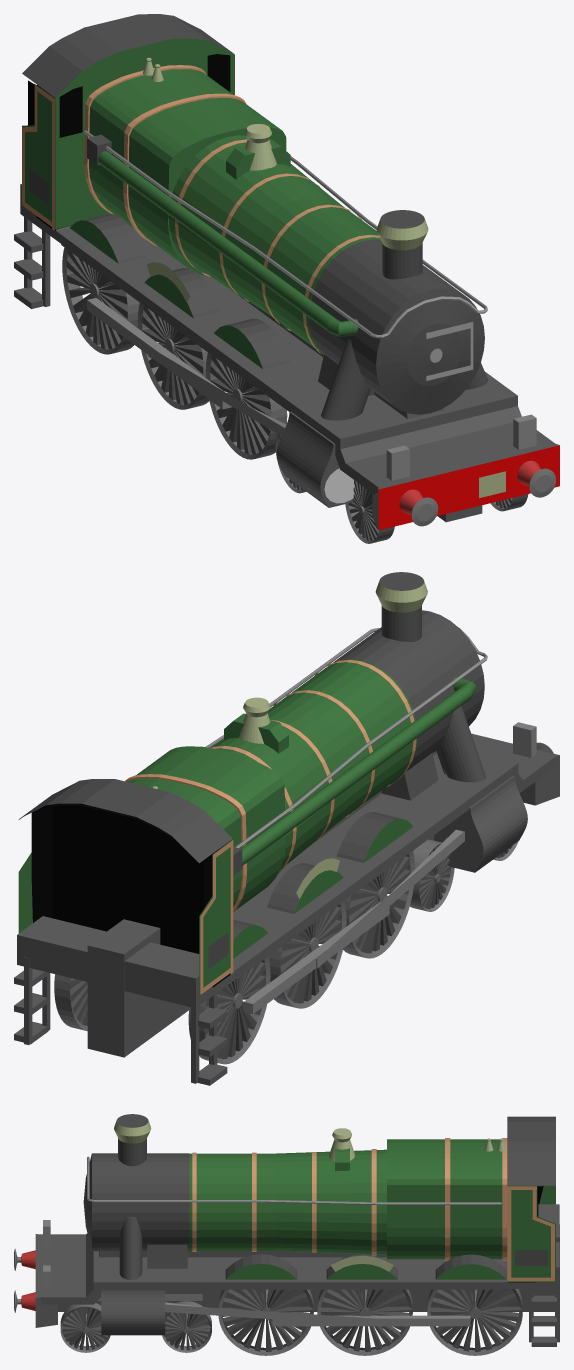
File: gwr-saint.dae
3 views of the same model, one above another, from view 1: azimuth 30°, elevation 25°; view 2: azimuth 150°, elevation 25°; view 3: azimuth 270°, elevation 25° (orthographic). The views are drawn at different scales.
Parts seen in each view (by area): view 1: Plane, Cylinder_016, Cylinder_011, Cylinder_017, Plane_001, Plane_010, Cylinder_012 (×2), Cube_005, Loco-Wheels-5Ft_000, Loco-Wheels-5Ft_000_002, Cube_007, Loco-Wheels-5Ft_000_001 (+23 smaller); view 2: Plane, Plane_007, Cylinder_011, Cylinder_017, Cylinder_016, Cube_003, Plane_010, Loco-Wheels-5Ft_000, Cube_007, Cylinder_012, Loco-Wheels-5Ft_000_001, Loco-Wheels-5Ft_000_002 (+21 smaller); view 3: Cylinder_011, Plane, Cylinder_017, Cylinder_016, Loco-Wheels-5Ft_000, Loco-Wheels-5Ft_000_002, Loco-Wheels-5Ft_000_001, Plane_010, Cube_003, Cube_000, Plane_001, Plane_005 (+28 smaller).
Boxes of the visible parts, x1=… form: Plane: x1=20, y1=184, x2=557, y2=494; Cylinder_016: x1=309, y1=239, x2=484, y2=414; Cylinder_011: x1=159, y1=135, x2=380, y2=354; Cylinder_017: x1=89, y1=69, x2=286, y2=275; Plane_001: x1=22, y1=38, x2=234, y2=229; Plane_010: x1=22, y1=14, x2=233, y2=97; Cylinder_012 (×2): x1=98, y1=151, x2=555, y2=497; Cube_005: x1=378, y1=445, x2=559, y2=530; Loco-Wheels-5Ft_000: x1=62, y1=247, x2=139, y2=354; Loco-Wheels-5Ft_000_002: x1=206, y1=352, x2=287, y2=459; Cube_007: x1=276, y1=411, x2=355, y2=507; Loco-Wheels-5Ft_000_001: x1=137, y1=303, x2=209, y2=409; Plane: x1=17, y1=733, x2=557, y2=1008; Plane_007: x1=31, y1=803, x2=230, y2=987; Cylinder_011: x1=211, y1=659, x2=417, y2=869; Cylinder_017: x1=127, y1=746, x2=285, y2=910; Cylinder_016: x1=333, y1=610, x2=484, y2=771; Cube_003: x1=87, y1=751, x2=436, y2=1057; Plane_010: x1=19, y1=779, x2=232, y2=863; Loco-Wheels-5Ft_000: x1=54, y1=956, x2=270, y2=1064; Cube_007: x1=434, y1=775, x2=527, y2=872; Cylinder_012: x1=241, y1=676, x2=475, y2=865; Loco-Wheels-5Ft_000_001: x1=268, y1=901, x2=346, y2=1008; Loco-Wheels-5Ft_000_002: x1=343, y1=851, x2=414, y2=958; Cylinder_011: x1=189, y1=1149, x2=400, y2=1254; Plane: x1=36, y1=1204, x2=559, y2=1304; Cylinder_017: x1=387, y1=1139, x2=502, y2=1259; Cylinder_016: x1=83, y1=1153, x2=189, y2=1251; Loco-Wheels-5Ft_000: x1=427, y1=1289, x2=522, y2=1355; Loco-Wheels-5Ft_000_002: x1=218, y1=1289, x2=313, y2=1355; Loco-Wheels-5Ft_000_001: x1=317, y1=1289, x2=412, y2=1355; Plane_010: x1=507, y1=1116, x2=555, y2=1185; Cube_003: x1=58, y1=1224, x2=559, y2=1311; Cube_000: x1=101, y1=1289, x2=165, y2=1335; Plane_001: x1=507, y1=1185, x2=555, y2=1282; Plane_005: x1=272, y1=1315, x2=470, y2=1326.
Bounding box in the file's own units: 2.09 × 6.63 × 2.78.
